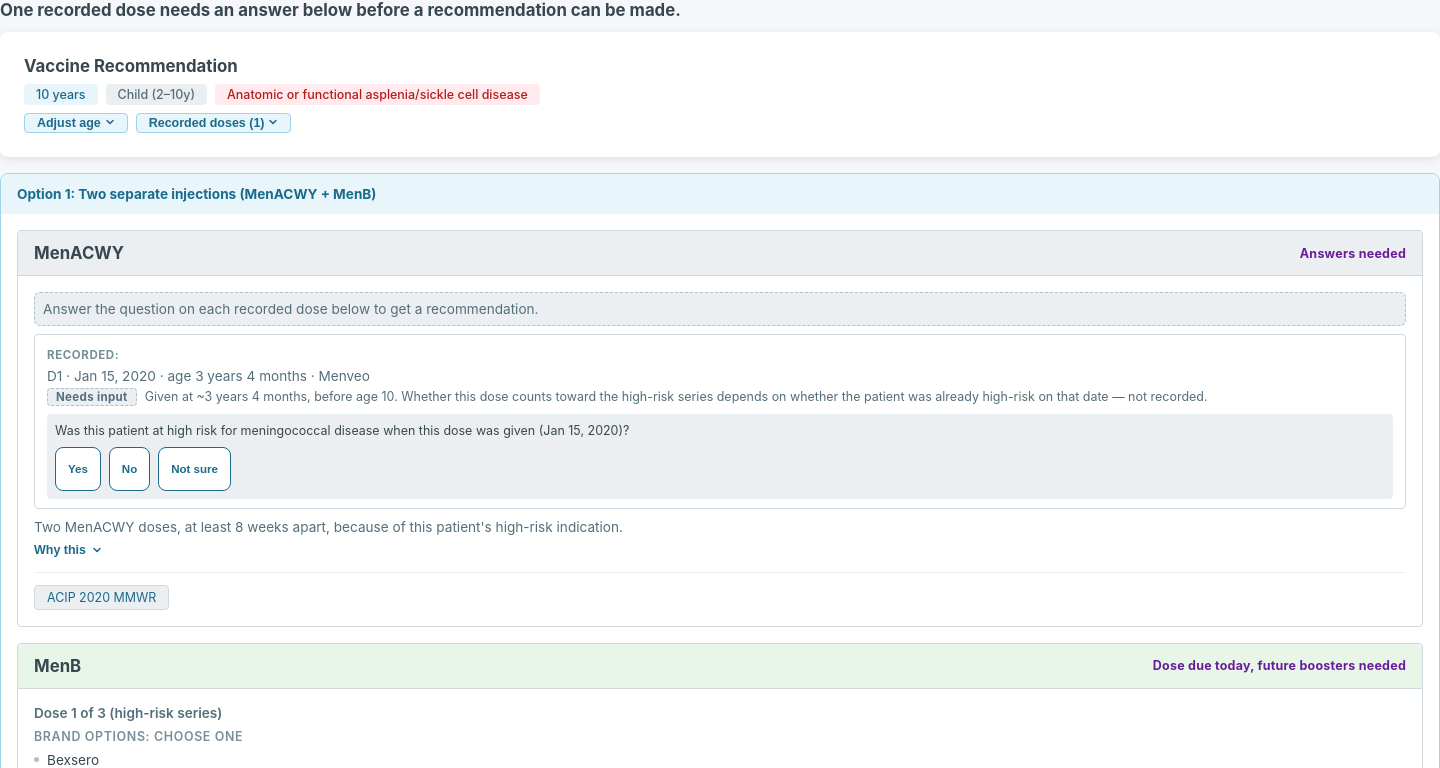
Scenario: Item 2: editing an already-answered risk-at-dose prompt › answering "Yes" then clicking Edit and picking "No" flips the dose to off-window
The width and height of the screenshot is (1440, 768).
What coordinates should you click on to do the following:
click the button "Yes"
I would click on:
 (78, 470)
Its box is 55,448 -> 101,492.
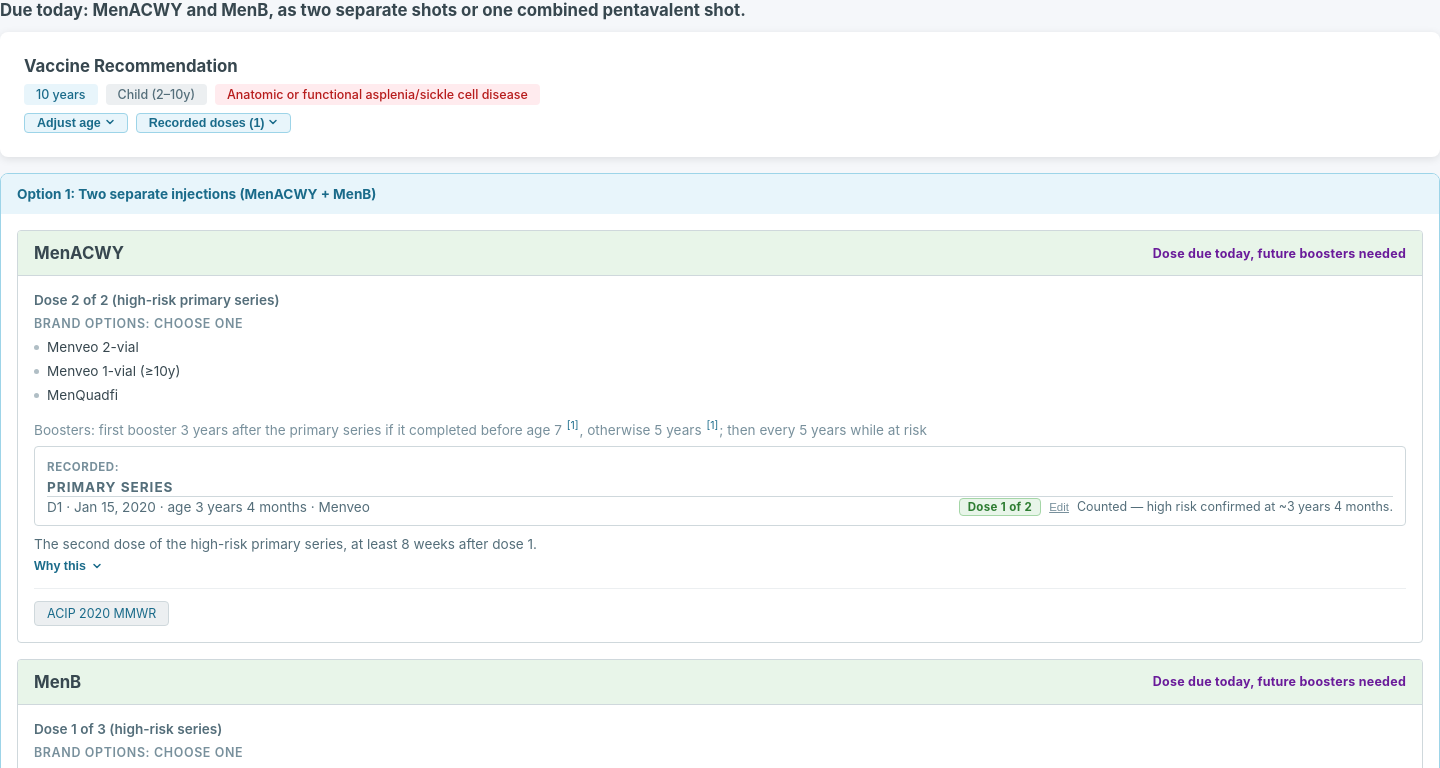
Check: the text "Dose 1 of 2" is shown, box 959,498 -> 1041,516
What coordinates should you click on to do the following:
click the button with test id "dose-val-edit-risk-answer"
I would click on:
 (1059, 506)
Its box is 1049,500 -> 1069,512.
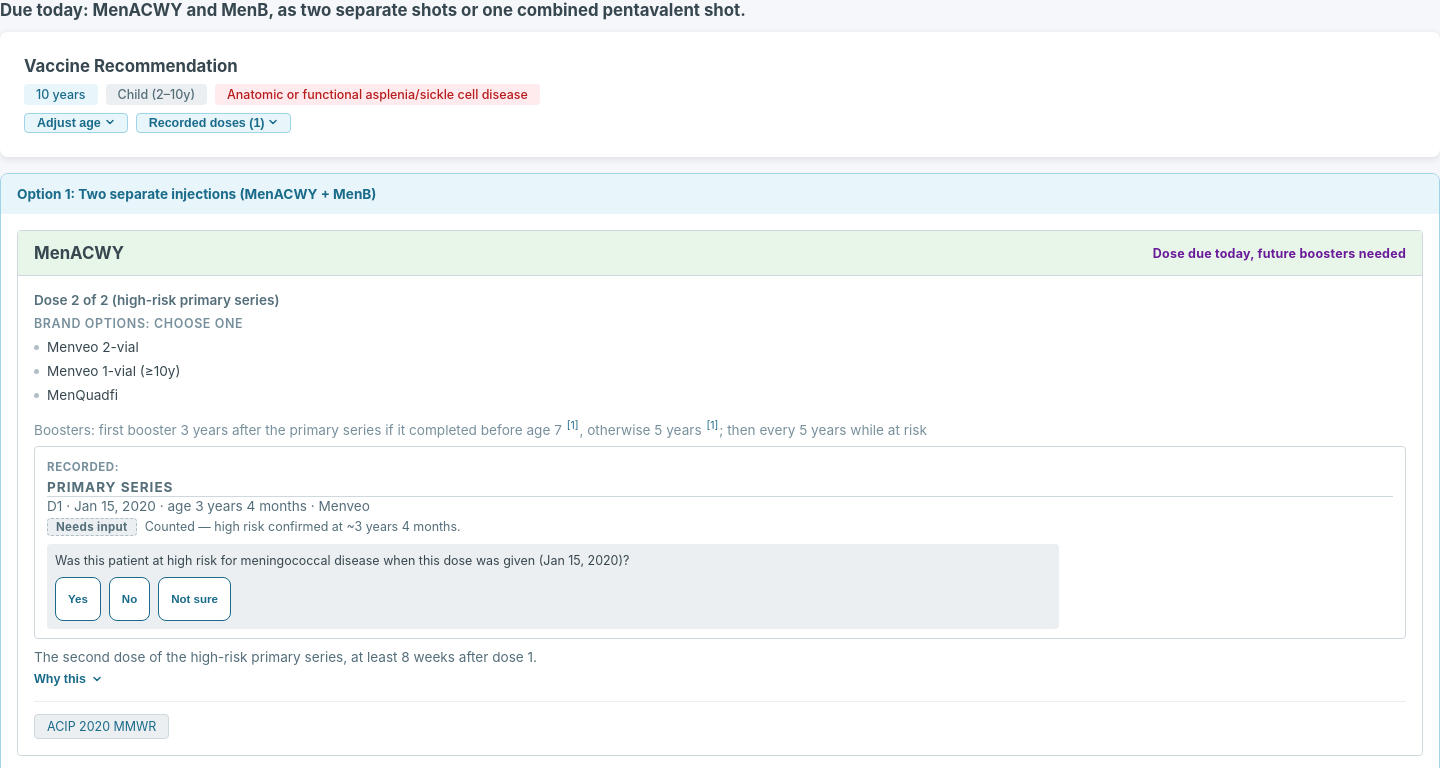
Check: the element with test id "risk-at-dose-prompt" is shown, box 47,544 -> 1059,629
What coordinates should you click on to do the following:
click the button "No"
I would click on:
 (130, 599)
Its box is 109,577 -> 150,621.
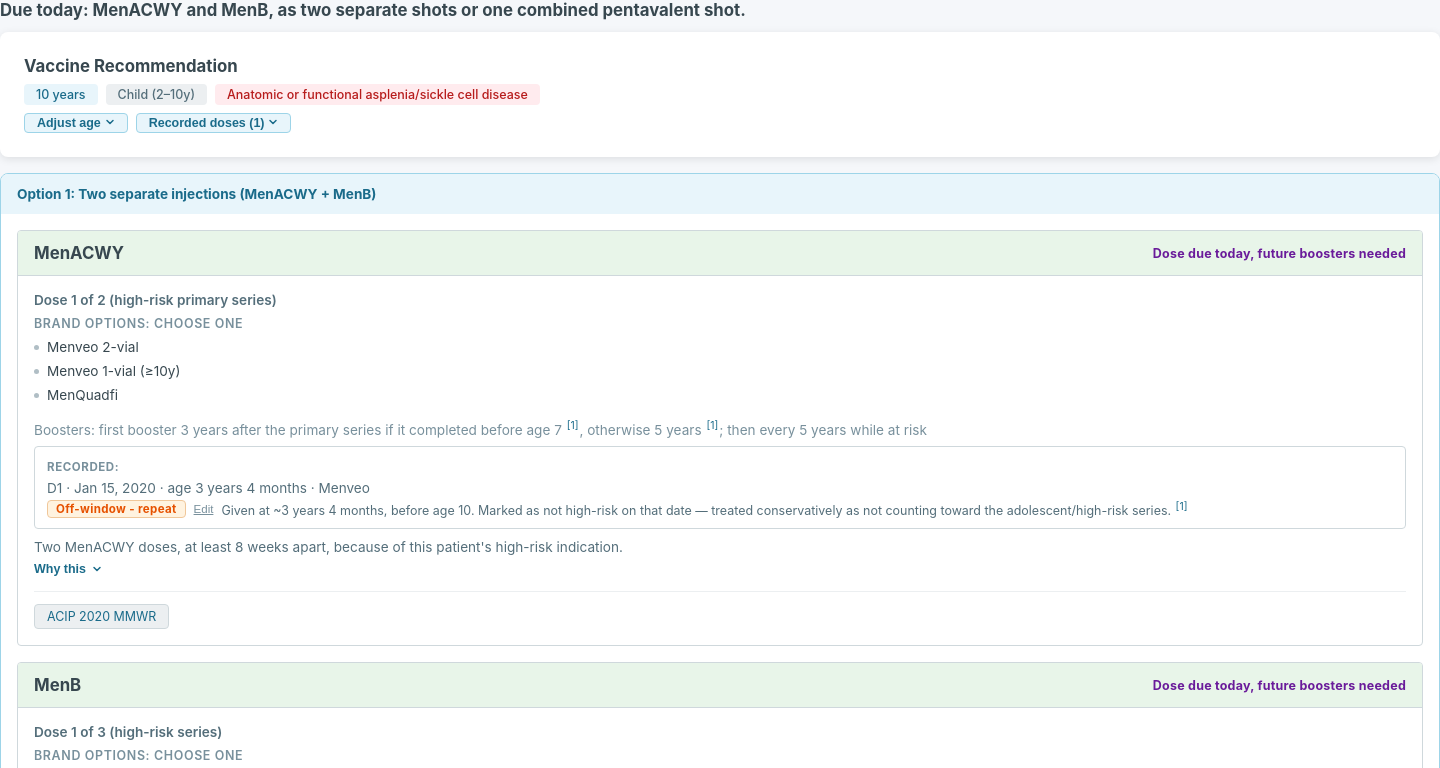
Check: the text "Off-window - repeat" is shown, box 47,500 -> 186,518
